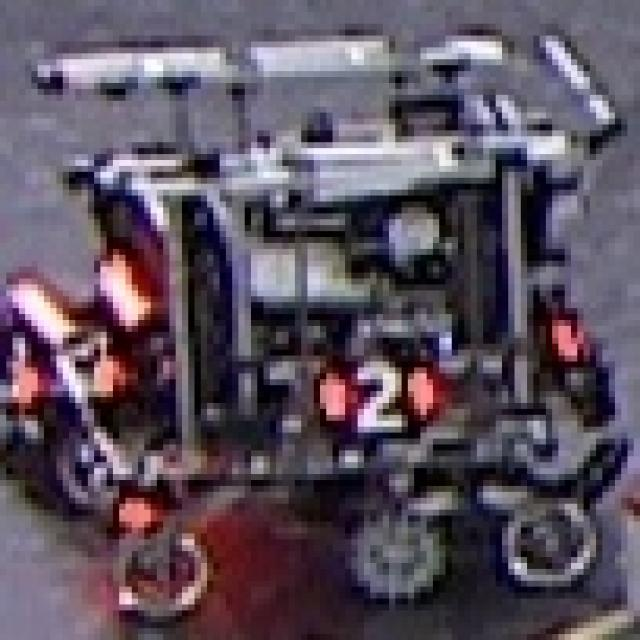R2: (295, 338, 439, 427)
